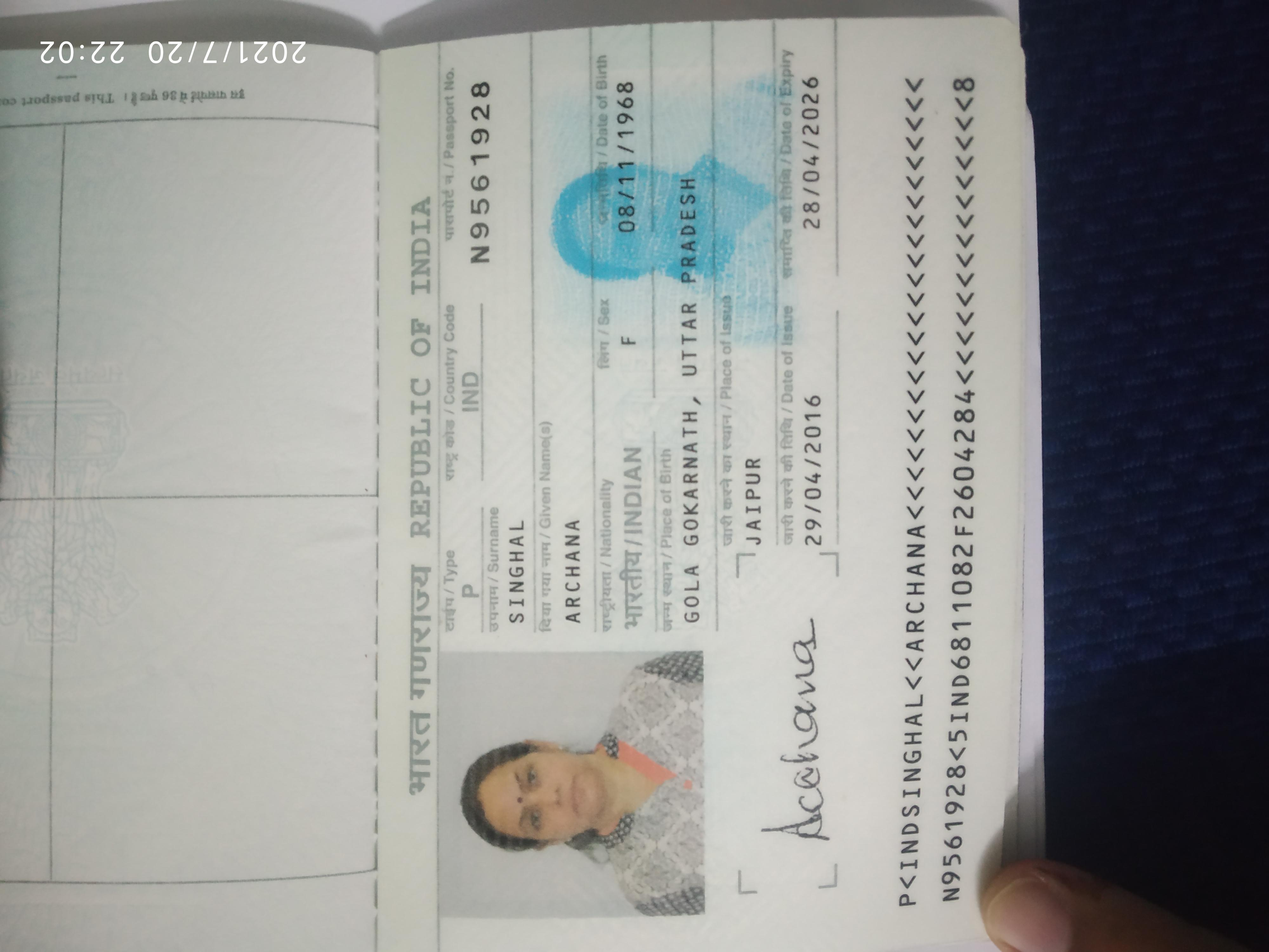DOB: (615, 697, 666, 885)
Surname: (741, 321, 768, 433)
country_code: (773, 517, 817, 606)
date_of_expiry: (431, 708, 474, 893)
date_of_issue: (431, 389, 472, 573)
details: (278, 32, 373, 893)
name: (677, 321, 709, 435)
nationality: (619, 313, 656, 526)
passport_no: (771, 678, 814, 874)
photo: (560, 35, 828, 295)
place_of_birth: (560, 319, 606, 789)
place_of_issue: (492, 397, 534, 507)
sex: (619, 571, 657, 652)
sign: (436, 83, 507, 330)
type: (784, 344, 815, 390)
